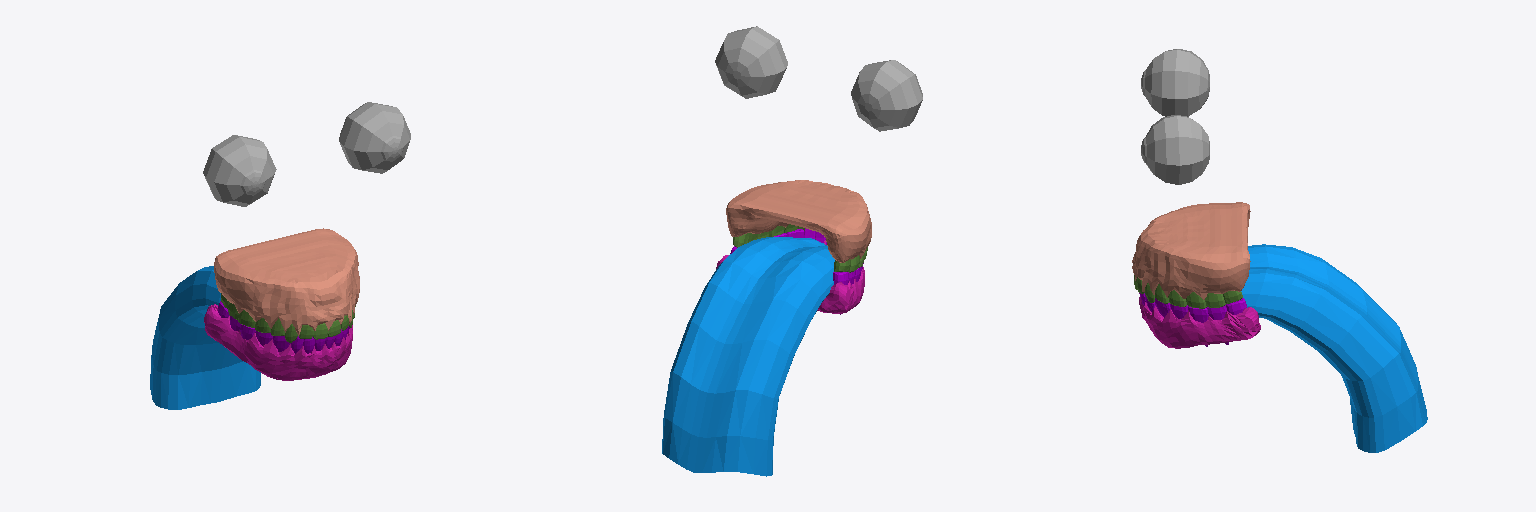
File: linnet.obj
3 renders of one model, left to right at view 1: azimuth 30°, elevation 25°; view 2: azimuth 150°, elevation 25°; view 3: azimuth 270°, elevation 25°, orthographic.
Visible parts, largest first — view 1: GumsUpper_M_GeoRndr, Tongue_M_GeoRndr, GumsLower_M_GeoRndr, OuterEye_L_GeoRndr, OuterEye_R_GeoRndr, TeethUpper_M_GeoRndr, TeethLower_M_GeoRndr; view 2: Tongue_M_GeoRndr, GumsUpper_M_GeoRndr, OuterEye_R_GeoRndr, OuterEye_L_GeoRndr, GumsLower_M_GeoRndr, TeethUpper_M_GeoRndr, TeethLower_M_GeoRndr; view 3: Tongue_M_GeoRndr, GumsUpper_M_GeoRndr, OuterEye_L_GeoRndr, OuterEye_R_GeoRndr, GumsLower_M_GeoRndr, TeethUpper_M_GeoRndr, TeethLower_M_GeoRndr.
Part boxes in pixels (x1,y1,x2,y2): GumsUpper_M_GeoRndr: (214,228,359,335); Tongue_M_GeoRndr: (150,266,260,409); GumsLower_M_GeoRndr: (204,304,352,380); OuterEye_L_GeoRndr: (339,102,410,173); OuterEye_R_GeoRndr: (203,135,276,206); TeethUpper_M_GeoRndr: (221,293,355,342); TeethLower_M_GeoRndr: (218,301,349,353); Tongue_M_GeoRndr: (662,237,834,476); GumsUpper_M_GeoRndr: (726,180,871,262); OuterEye_R_GeoRndr: (851,60,922,131); OuterEye_L_GeoRndr: (715,26,787,98); GumsLower_M_GeoRndr: (716,238,864,313); TeethUpper_M_GeoRndr: (733,224,867,272); TeethLower_M_GeoRndr: (730,228,863,314); Tongue_M_GeoRndr: (1241,244,1427,452); GumsUpper_M_GeoRndr: (1132,202,1250,299); OuterEye_L_GeoRndr: (1141,115,1209,184); OuterEye_R_GeoRndr: (1141,49,1209,116); GumsLower_M_GeoRndr: (1139,297,1260,348); TeethUpper_M_GeoRndr: (1134,275,1242,308); TeethLower_M_GeoRndr: (1139,293,1246,346).
Bounding box in the file's own units: 0.8928 × 1.48 × 1.14.